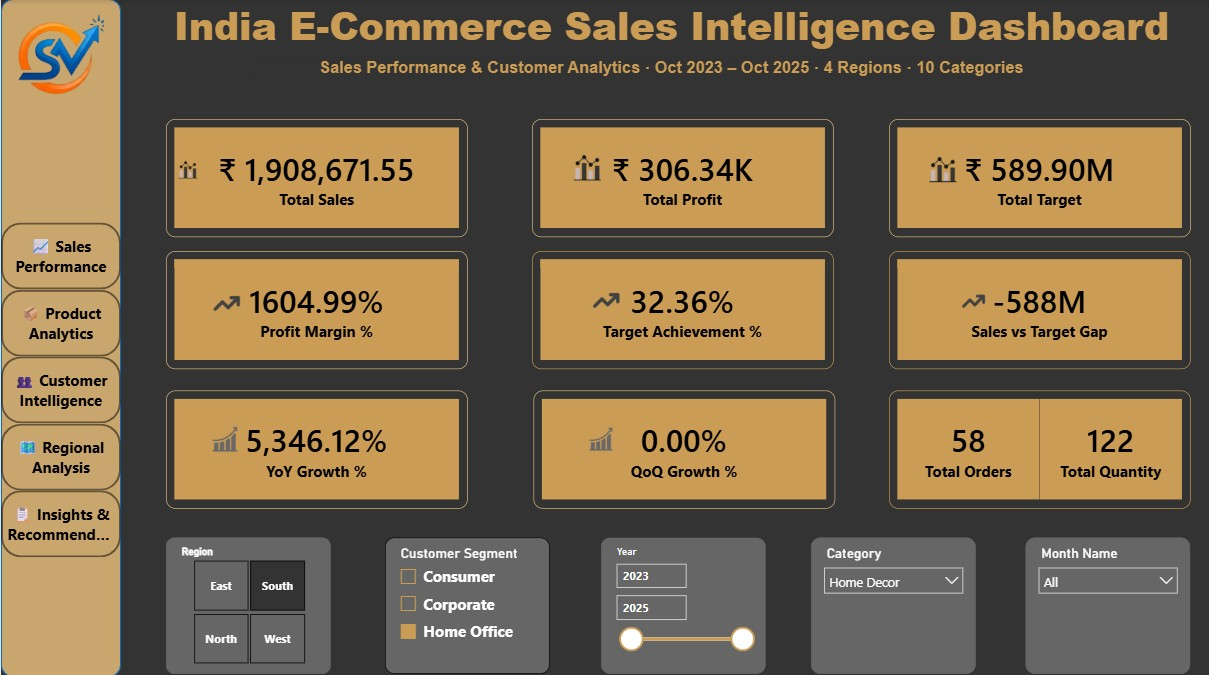

This screenshot's page, from the dashboard's own definition file:
{"tool":"powerbi","page":{"name":"🏠 Executive Summary","canvas":[1280,720],"ordinal":0},"visuals":[{"type":"shape","box":[0,0,127.2,719],"z":0},{"type":"cardVisual","fields":{"Data":["Measures (2).Total Sales"]},"box":[174.3,127.5,320,125],"z":1000},{"type":"cardVisual","fields":{"Data":["Measures (2).Total Profit"]},"box":[563.1,127.5,320,125],"z":2000},{"type":"cardVisual","fields":{"Data":["Measures (2).Profit Margin %"]},"box":[174.3,267.8,320,125],"z":3000},{"type":"cardVisual","fields":{"Data":["Measures (2).YoY Growth %"]},"box":[174.3,414.7,320,125],"z":4000},{"type":"cardVisual","fields":{"Data":["Measures (2).Target Achievement %"]},"box":[563.1,267.8,320,125],"z":5000},{"type":"slicer","fields":{"Values":["Ecommerce_Sales_Data_2024_2025.Region"]},"box":[175,571,175,144.7],"z":6000},{"type":"slicer","fields":{"Values":["Ecommerce_Sales_Data_2024_2025.Category"]},"box":[858.9,571,175,144.7],"z":7000},{"type":"slicer","fields":{"Values":["Ecommerce_Sales_Data_2024_2025.Customer Segment"]},"box":[407.2,571,175,144.7],"z":8000},{"type":"slicer","fields":{"Values":["Date Table.Year"]},"box":[636.2,571,175,144.7],"z":9000},{"type":"slicer","fields":{"Values":["Date Table.Month Name"]},"box":[1086.4,571,175,144.7],"z":10000},{"type":"cardVisual","fields":{"Data":["Measures (2).Total Target"]},"box":[942.3,127.5,320,125],"z":11000},{"type":"textbox","title":"India E-Commerce Sales Intelligence Dashboard","box":[143.6,0,1135.9,59.7],"z":12000},{"type":"image","box":[973.9,153.6,50.7,53.9],"z":13000},{"type":"image","box":[898.7,293.6,203.3,46.8],"z":14000},{"type":"image","box":[617.2,294.3,49.3,50.9],"z":15000},{"type":"image","box":[214.7,297.4,49.3,50.9],"z":16000},{"type":"image","box":[178.1,163.8,39.8,35],"z":17000},{"type":"image","box":[596.5,152.7,50.9,52.5],"z":18000},{"type":"textbox","title":"Sales Performance & Customer Analytics · Oct 2023 – Oct 2025 · 4 Regions · 10 Categories","box":[266.2,61.3,890.6,24.2],"z":19000},{"type":"pageNavigator","box":[0,237,127.2,357.9],"z":20000},{"type":"cardVisual","fields":{"Data":["Measures (2).QoQ Growth %"]},"box":[564.7,414.7,320,125],"z":21000},{"type":"cardVisual","fields":{"Data":["Measures (2).Sales vs Target Gap"]},"box":[942.3,267.8,320,125],"z":22000},{"type":"cardVisual","fields":{"Data":["Measures (2).Total Orders","Measures (2).Total Quantity"]},"box":[942.3,414.7,320,125],"z":23000},{"type":"image","box":[1010,297.4,42.9,46.1],"z":24000},{"type":"image","box":[212.4,444.5,49,45.8],"z":25000},{"type":"image","box":[611.1,446.1,50.7,42.5],"z":26000},{"type":"image","box":[14.5,16.1,98.4,85.5],"z":28000}]}

Visuals, with their boxes in screenshot pixels (x1, y1, x2, y2), scaled from the page's 1280x720 canvas onto the 1209x675 screenshot:
shape: pyautogui.locateOnScreen(0, 0, 120, 674)
cardVisual - Measures (2).Total Sales: pyautogui.locateOnScreen(165, 120, 467, 237)
cardVisual - Measures (2).Total Profit: pyautogui.locateOnScreen(532, 120, 834, 237)
cardVisual - Measures (2).Profit Margin %: pyautogui.locateOnScreen(165, 251, 467, 368)
cardVisual - Measures (2).YoY Growth %: pyautogui.locateOnScreen(165, 389, 467, 506)
cardVisual - Measures (2).Target Achievement %: pyautogui.locateOnScreen(532, 251, 834, 368)
slicer - Ecommerce_Sales_Data_2024_2025.Region: pyautogui.locateOnScreen(165, 535, 331, 671)
slicer - Ecommerce_Sales_Data_2024_2025.Category: pyautogui.locateOnScreen(811, 535, 977, 671)
slicer - Ecommerce_Sales_Data_2024_2025.Customer Segment: pyautogui.locateOnScreen(385, 535, 550, 671)
slicer - Date Table.Year: pyautogui.locateOnScreen(601, 535, 766, 671)
slicer - Date Table.Month Name: pyautogui.locateOnScreen(1026, 535, 1191, 671)
cardVisual - Measures (2).Total Target: pyautogui.locateOnScreen(890, 120, 1192, 237)
"India E-Commerce Sales Intelligence Dashboard" textbox: pyautogui.locateOnScreen(136, 0, 1208, 56)
image: pyautogui.locateOnScreen(920, 144, 968, 195)
image: pyautogui.locateOnScreen(849, 275, 1041, 319)
image: pyautogui.locateOnScreen(583, 276, 630, 324)
image: pyautogui.locateOnScreen(203, 279, 249, 327)
image: pyautogui.locateOnScreen(168, 154, 206, 186)
image: pyautogui.locateOnScreen(563, 143, 611, 192)
"Sales Performance & Customer Analytics · Oct 2023 – Oct 2025 · 4 Regions · 10 Categories" textbox: pyautogui.locateOnScreen(251, 57, 1093, 80)
pageNavigator: pyautogui.locateOnScreen(0, 222, 120, 558)
cardVisual - Measures (2).QoQ Growth %: pyautogui.locateOnScreen(533, 389, 836, 506)
cardVisual - Measures (2).Sales vs Target Gap: pyautogui.locateOnScreen(890, 251, 1192, 368)
cardVisual - Measures (2).Total Orders x Measures (2).Total Quantity: pyautogui.locateOnScreen(890, 389, 1192, 506)
image: pyautogui.locateOnScreen(954, 279, 994, 322)
image: pyautogui.locateOnScreen(201, 417, 247, 460)
image: pyautogui.locateOnScreen(577, 418, 625, 458)
image: pyautogui.locateOnScreen(14, 15, 107, 95)
